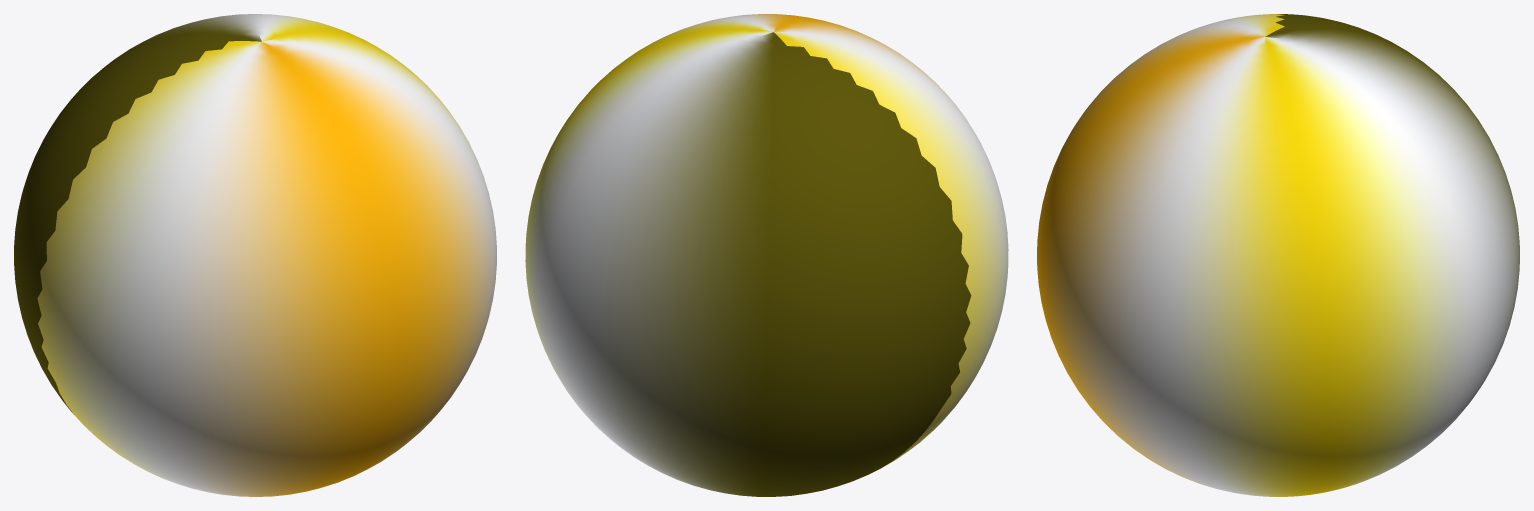
Rendered from Jupiter.fbx.
3 views of the same model, side by side, from view 1: azimuth 30°, elevation 25°; view 2: azimuth 150°, elevation 25°; view 3: azimuth 270°, elevation 25° (orthographic).
Visible parts, largest first — view 1: JupiterAtmosphere; view 2: JupiterAtmosphere; view 3: JupiterAtmosphere.
Boxes of the visible parts, <box> form: JupiterAtmosphere: <box>14,14,496,496</box>; JupiterAtmosphere: <box>525,14,1008,496</box>; JupiterAtmosphere: <box>1037,14,1519,496</box>.
Bounding box in the file's own units: 120 × 120 × 120.
